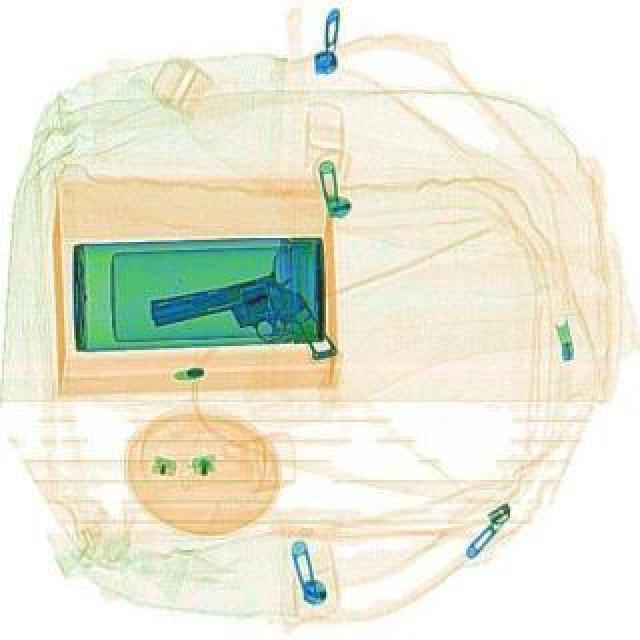gun: (142, 262, 338, 392)
